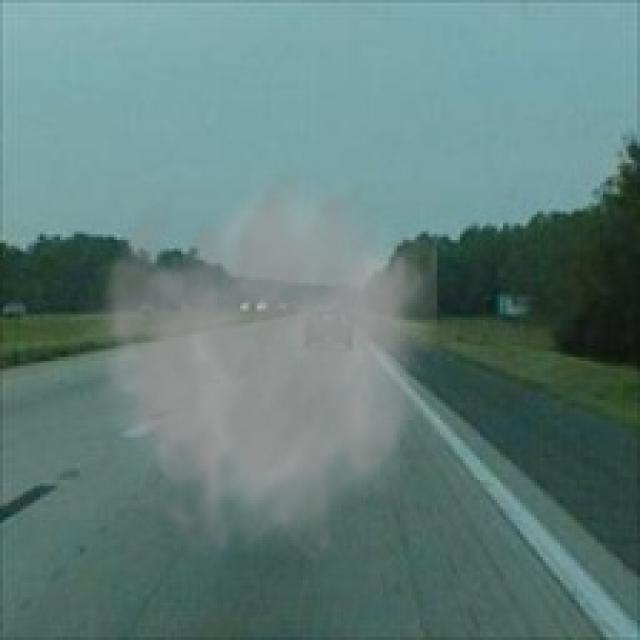Smoke: (69, 163, 438, 566)
